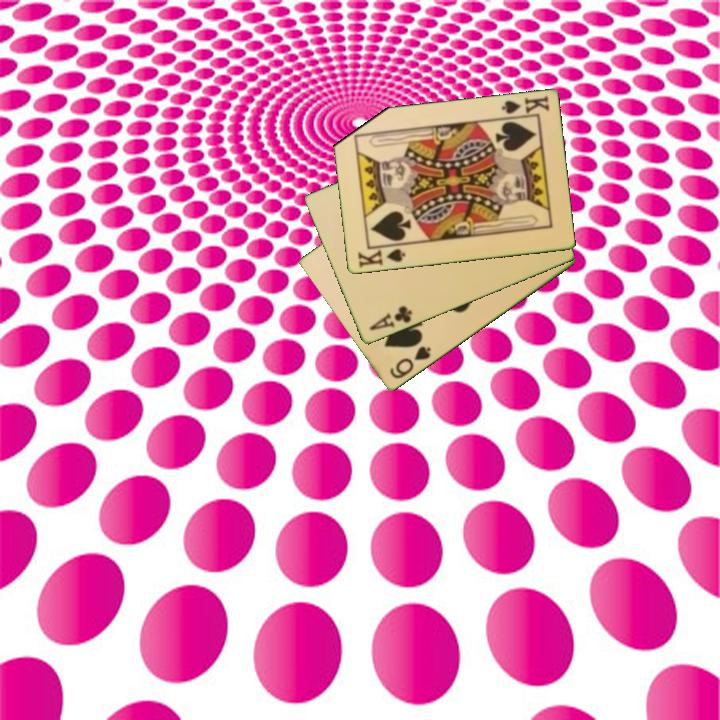6s: (386, 343, 434, 382)
Ac: (365, 303, 415, 334)
Ks: (354, 242, 408, 271), (497, 93, 552, 121)
